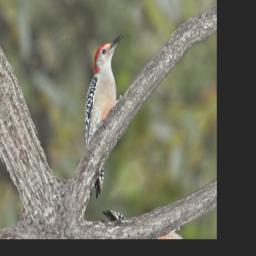Woodpecker: (48, 28, 170, 200)
